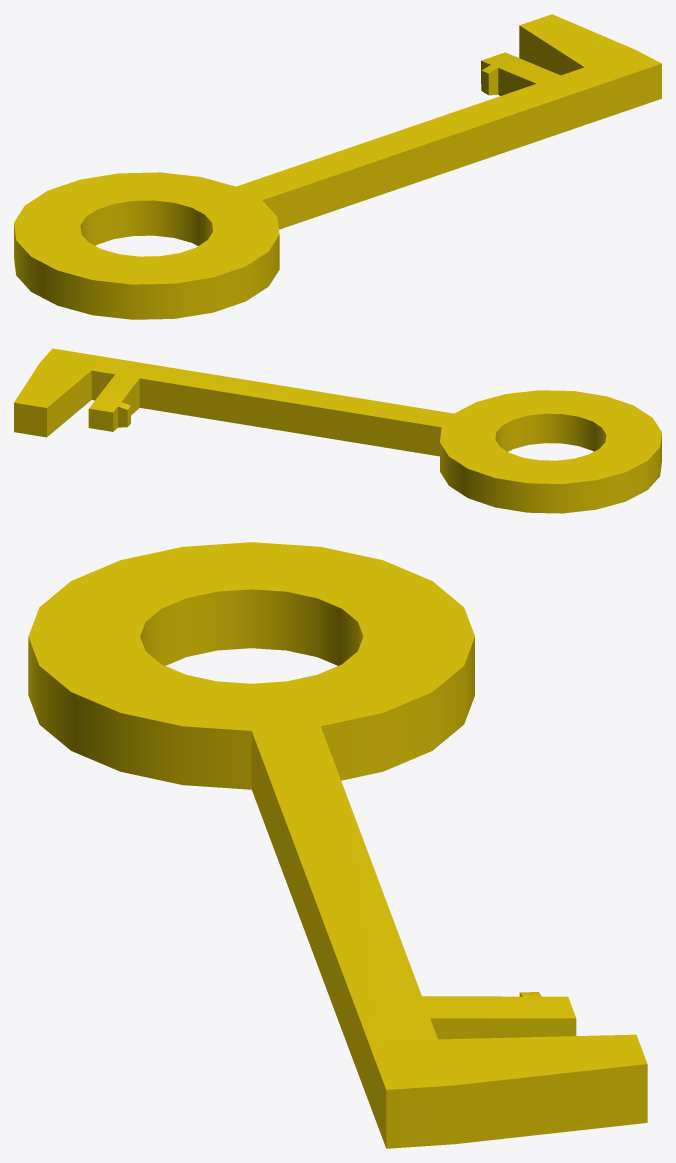
The model's file is key.fbx.
3 views of the same model, one above another, from view 1: azimuth 30°, elevation 25°; view 2: azimuth 150°, elevation 25°; view 3: azimuth 270°, elevation 25° (orthographic). The views are drawn at different scales.
Parts seen in each view (by area): view 1: pPipe1; view 2: pPipe1; view 3: pPipe1.
Part boxes in pixels (x1,y1,x2,y2): pPipe1: [14, 14, 661, 319]; pPipe1: [14, 348, 661, 513]; pPipe1: [28, 542, 647, 1148].
Bounding box in the file's own units: 9.86 × 0.4938 × 4.71.
